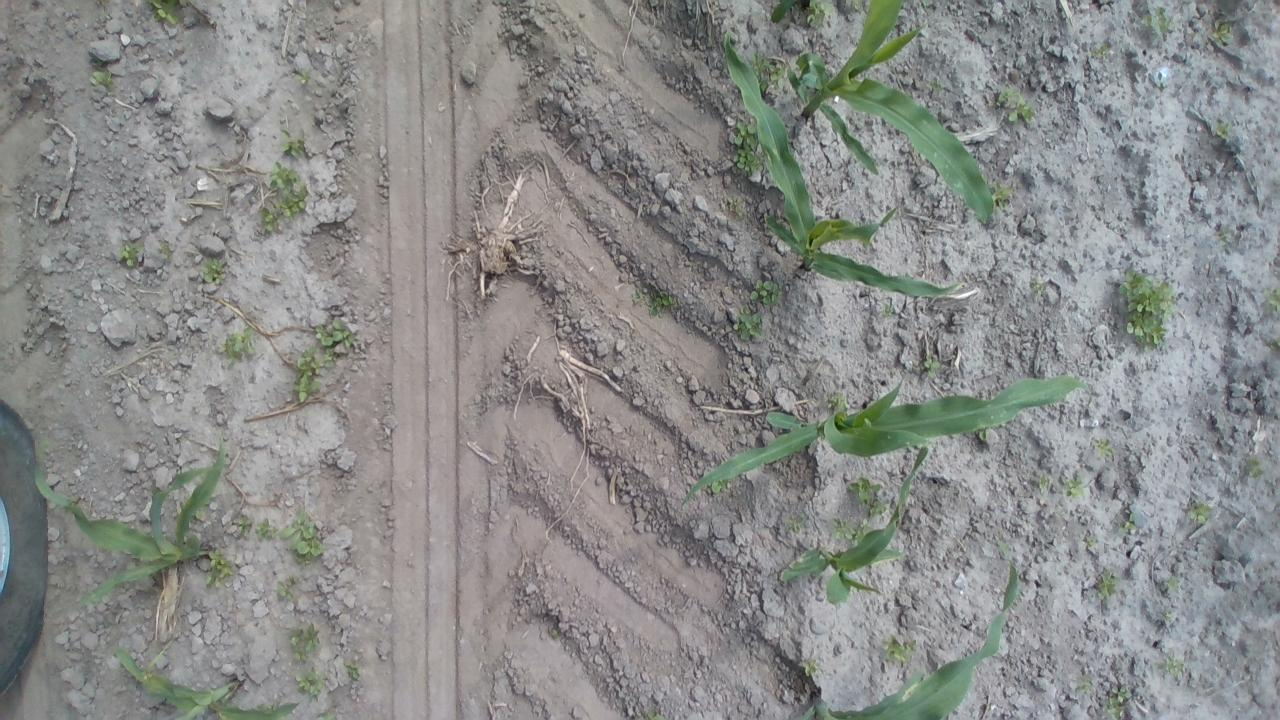Maize: (722, 30, 962, 298), (678, 374, 1088, 510), (785, 0, 997, 225), (789, 561, 1020, 720), (33, 432, 228, 608), (782, 442, 928, 604), (110, 644, 302, 720)
Weeds: (292, 318, 352, 403), (1119, 270, 1175, 352), (258, 161, 308, 231), (278, 506, 328, 565), (732, 120, 766, 176), (847, 478, 891, 521), (216, 320, 258, 363), (751, 51, 788, 98), (630, 287, 678, 320), (996, 86, 1036, 124), (286, 622, 321, 662), (202, 548, 235, 588), (831, 516, 870, 548), (292, 664, 326, 700), (732, 302, 762, 341), (1138, 6, 1178, 35), (881, 632, 916, 664), (749, 278, 784, 306), (144, 0, 184, 24), (1102, 687, 1130, 720), (278, 126, 306, 158), (991, 179, 1018, 210), (275, 574, 302, 604), (80, 64, 112, 89), (806, 0, 835, 27), (116, 241, 146, 267), (1096, 568, 1120, 599), (200, 256, 226, 284), (782, 512, 812, 535), (823, 391, 848, 415), (1063, 472, 1086, 498), (1186, 502, 1212, 524), (255, 518, 278, 542), (798, 655, 824, 676), (1090, 437, 1116, 457), (142, 654, 161, 681), (341, 657, 362, 681), (1262, 286, 1280, 314), (1246, 456, 1265, 481), (727, 196, 748, 218), (1212, 20, 1232, 43), (32, 432, 50, 457), (705, 479, 733, 494), (924, 354, 942, 377), (1214, 120, 1234, 140), (1164, 657, 1183, 678), (1119, 512, 1137, 534), (236, 514, 254, 536), (295, 64, 313, 84), (1214, 224, 1229, 248), (878, 303, 896, 321), (158, 242, 176, 260), (929, 80, 946, 96), (1031, 279, 1047, 295), (1074, 680, 1092, 694), (1092, 46, 1110, 60), (1166, 574, 1180, 592), (1081, 535, 1097, 550), (1038, 472, 1050, 492), (976, 427, 992, 441), (643, 711, 666, 720), (318, 709, 336, 720), (785, 5, 801, 17), (998, 542, 1009, 558), (548, 626, 560, 640), (850, 0, 865, 11), (193, 508, 206, 520), (1270, 337, 1280, 351), (771, 0, 780, 12), (1160, 610, 1169, 622), (920, 0, 929, 11), (898, 6, 906, 18), (767, 15, 771, 20)
